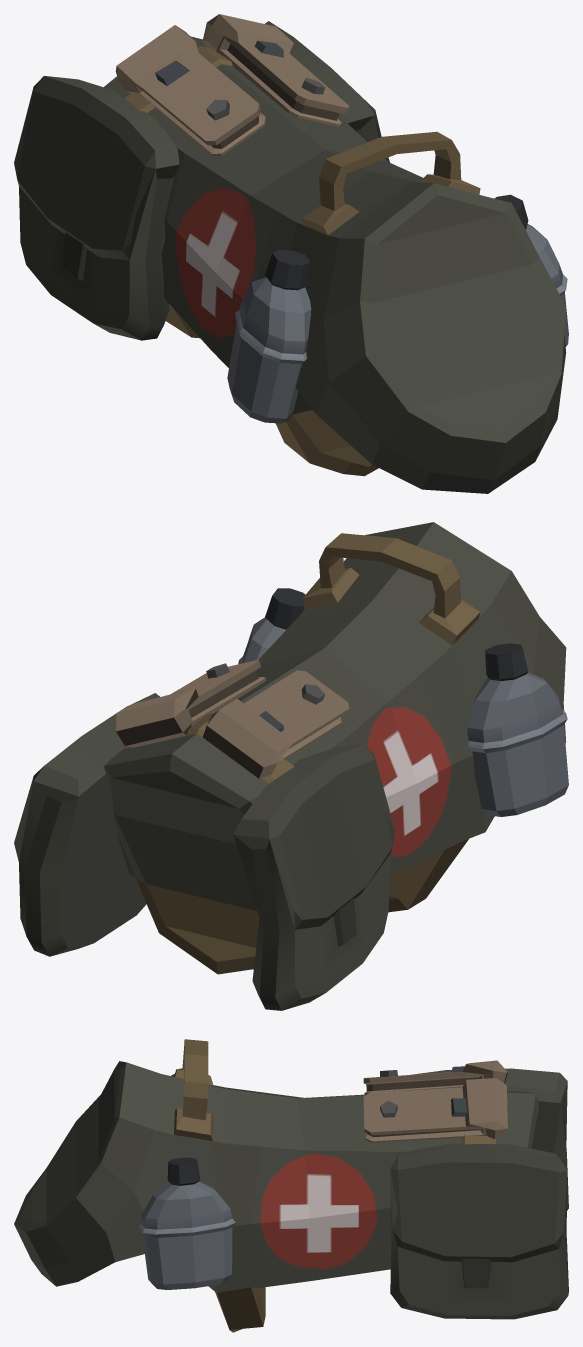
File: SK_Chr_Attach_Vest_War_GermanShepherd_01.fbx
The picture shows the model from 3 angles, top to bottom: view 1: azimuth 30°, elevation 25°; view 2: azimuth 150°, elevation 25°; view 3: azimuth 270°, elevation 25°; orthographic projection. The views are drawn at different scales.
Parts seen in each view (by area): view 1: SK_Chr_Attach_Vest_War_GermanShepherd_01; view 2: SK_Chr_Attach_Vest_War_GermanShepherd_01; view 3: SK_Chr_Attach_Vest_War_GermanShepherd_01.
Part boxes in pixels (box(x1,y1,x2,y2)): SK_Chr_Attach_Vest_War_GermanShepherd_01: box(14, 14, 568, 493); SK_Chr_Attach_Vest_War_GermanShepherd_01: box(14, 522, 568, 1010); SK_Chr_Attach_Vest_War_GermanShepherd_01: box(14, 1039, 568, 1332).
Bounding box in the file's own units: 42.57 × 45.42 × 82.43.
